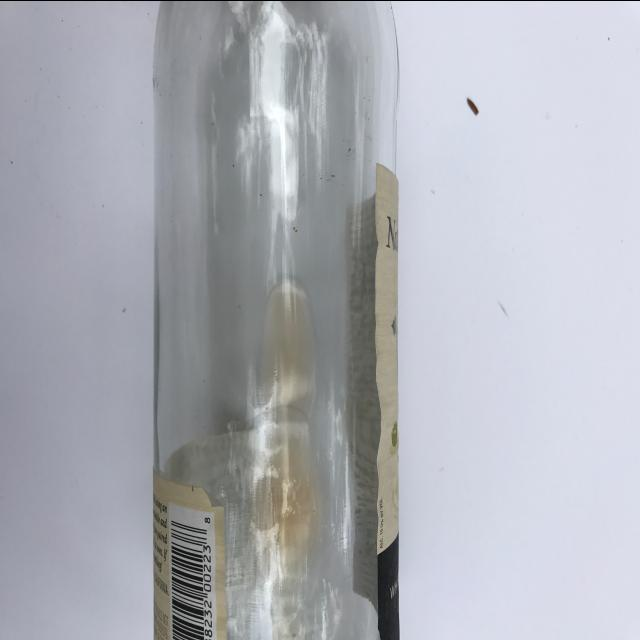glass: (139, 2, 405, 640)
